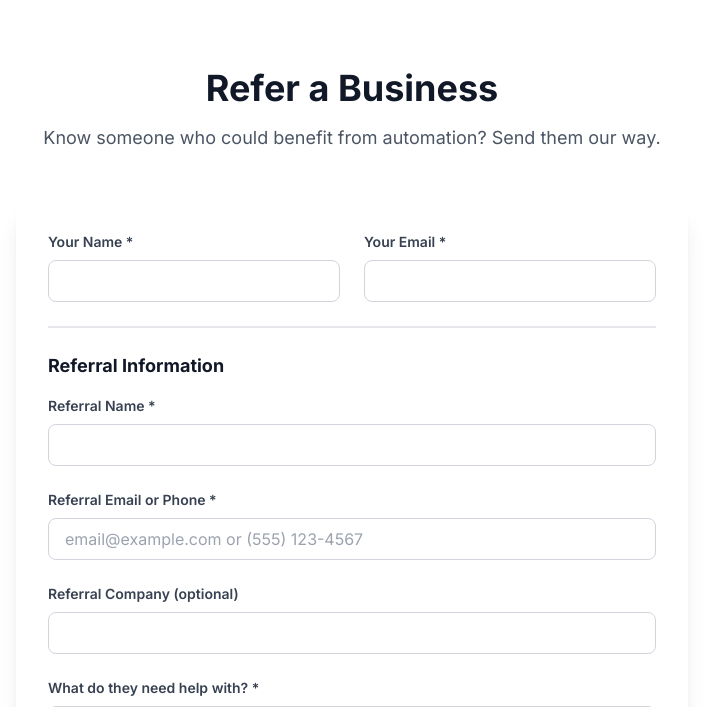
Test: Referrals › Form Submission › should show success message on successful submit
Type "John Doe" into the field labelled "Your Name *" at (194,281), box [48, 260, 340, 302]
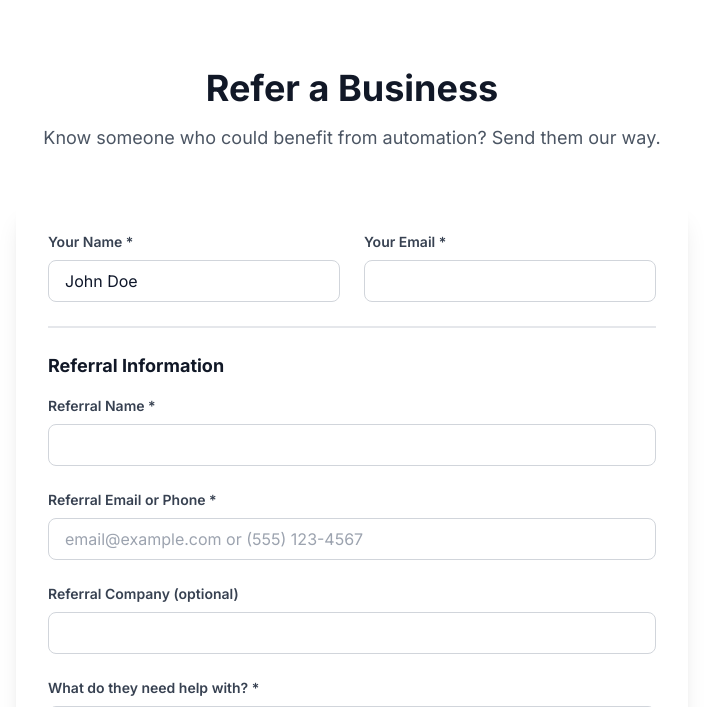
Type "john@example.com" into the field labelled "Your Email *" at (510,281), box [364, 260, 656, 302]
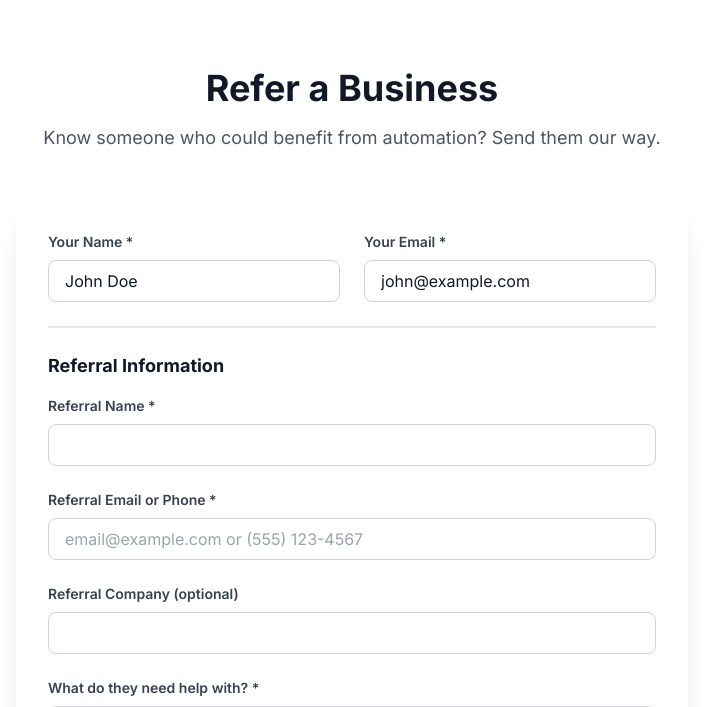
Type "Jane Smith" into the field labelled "Referral Name *" at (352,445), box [48, 424, 656, 466]
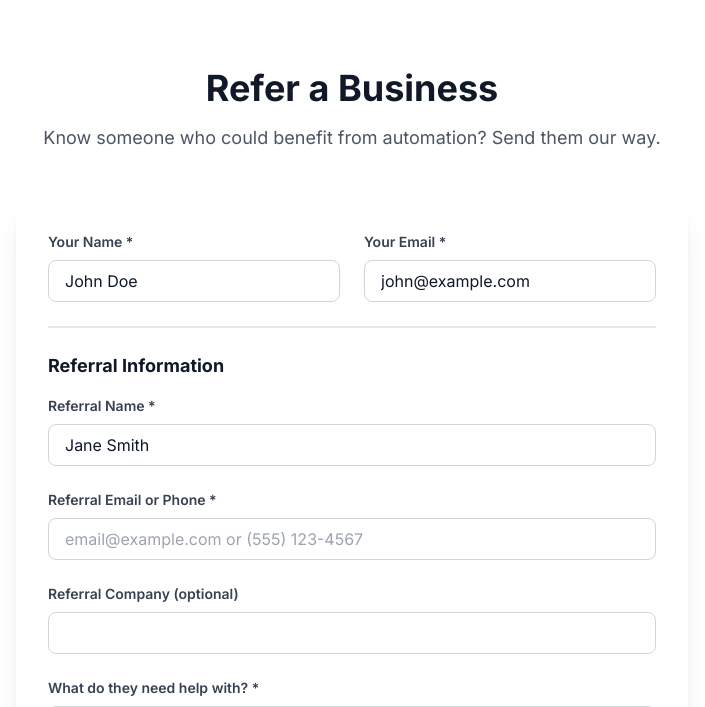
Type "jane@example.com" into the field labelled "Referral Email or Phone *" at (352,539), box [48, 518, 656, 560]
(page scrolled)
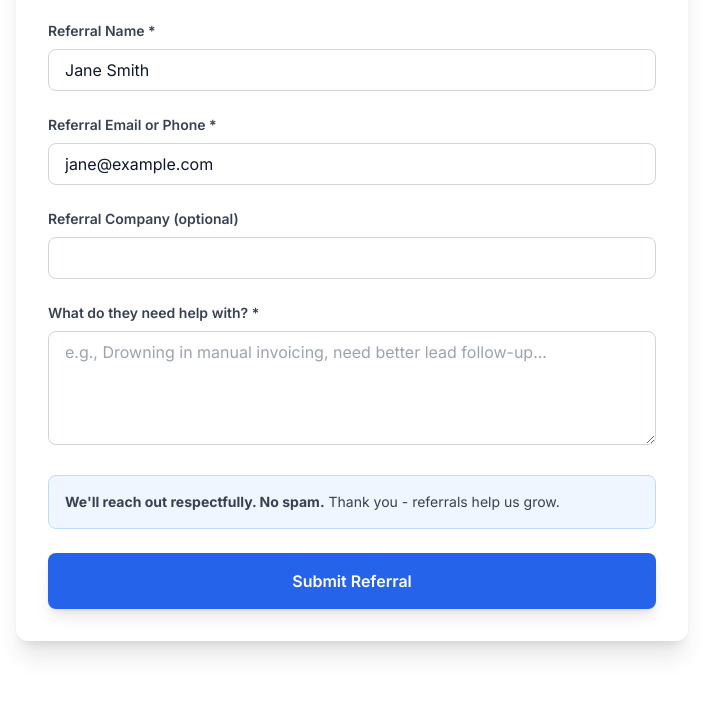
Replace the text in the text box labelled "What do they need help with? *" with "Help needed" at (352,388), box [48, 331, 656, 445]
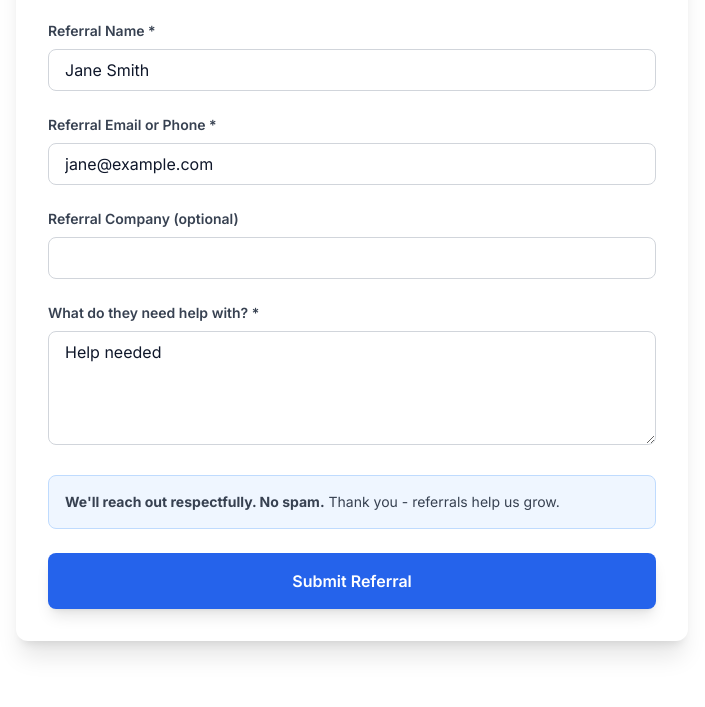
Click the button "Submit Referral" at (352,581), box [48, 553, 656, 609]
(page scrolled)
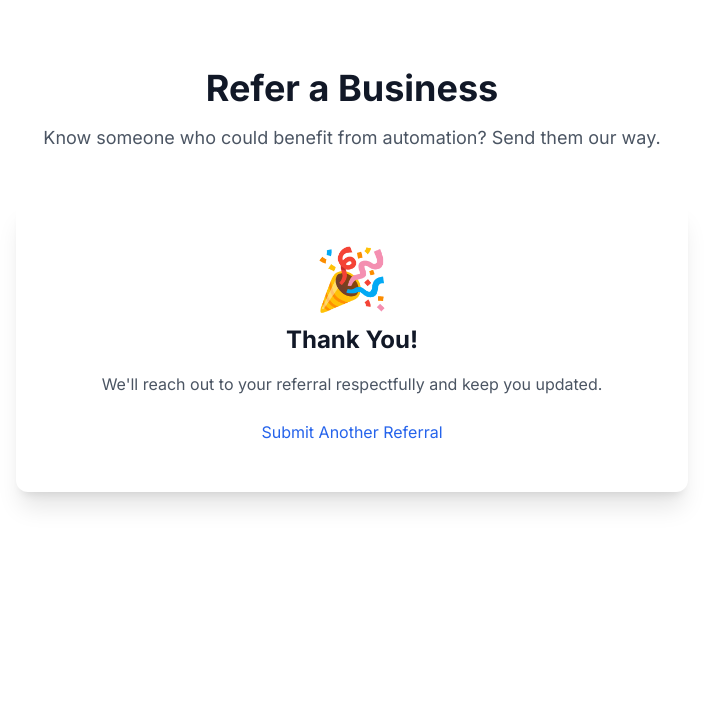
Check: the heading "Thank You!" is shown, box [286, 325, 418, 354]
